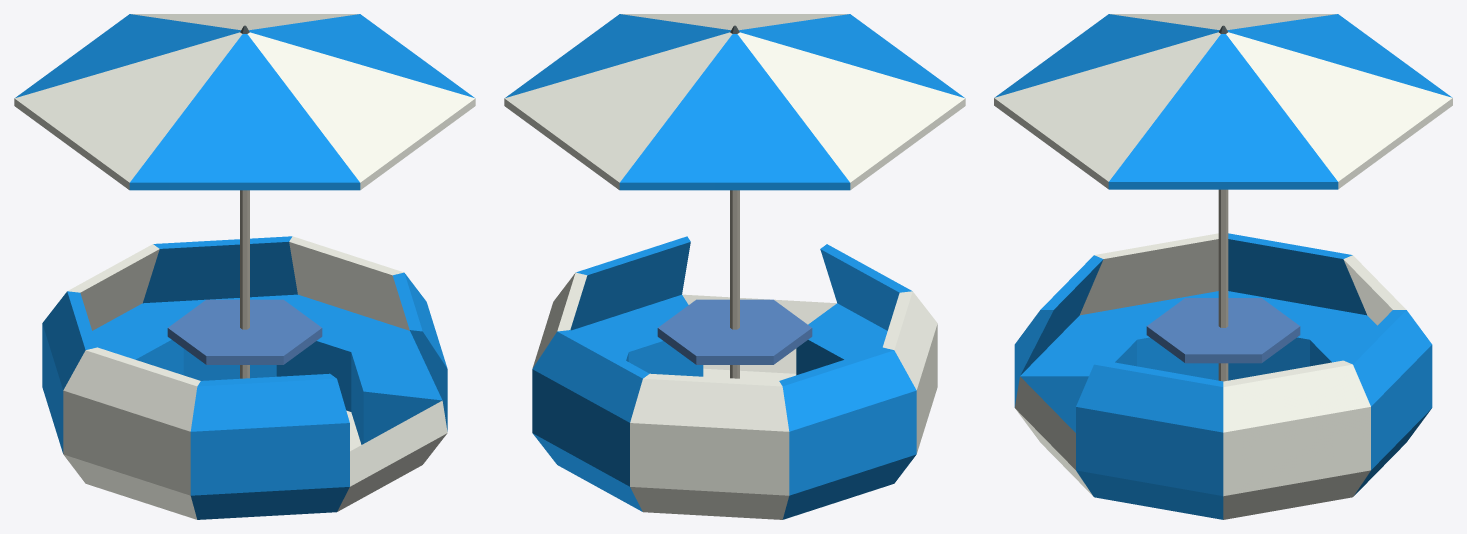
Rendered from Water_Ride_Tube_1.fbx.
3 renders of one model, left to right at view 1: azimuth 30°, elevation 25°; view 2: azimuth 150°, elevation 25°; view 3: azimuth 270°, elevation 25°, orthographic.
Parts seen in each view (by area): view 1: Water_Ride_Tube_1; view 2: Water_Ride_Tube_1; view 3: Water_Ride_Tube_1.
Boxes of the visible parts, x1=… form: Water_Ride_Tube_1: x1=14, y1=14, x2=475, y2=519; Water_Ride_Tube_1: x1=504, y1=14, x2=965, y2=519; Water_Ride_Tube_1: x1=994, y1=14, x2=1452, y2=519.
Bounding box in the file's own units: 171 × 188 × 188.
